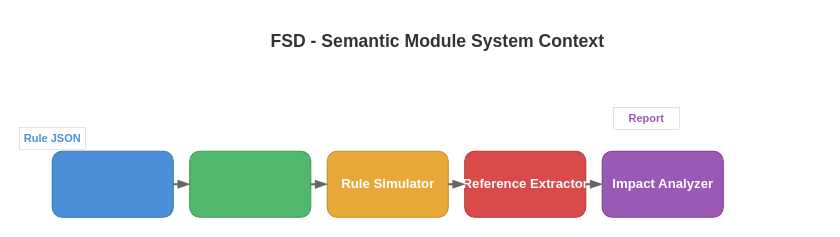
This 840x237 diagram has some shape labels left out. Here are the shapes that lost their labels. From the top down, the box of each, then its label:
(51, 150, 173, 217): Parser
(189, 150, 311, 217): Semantic Analyzer
